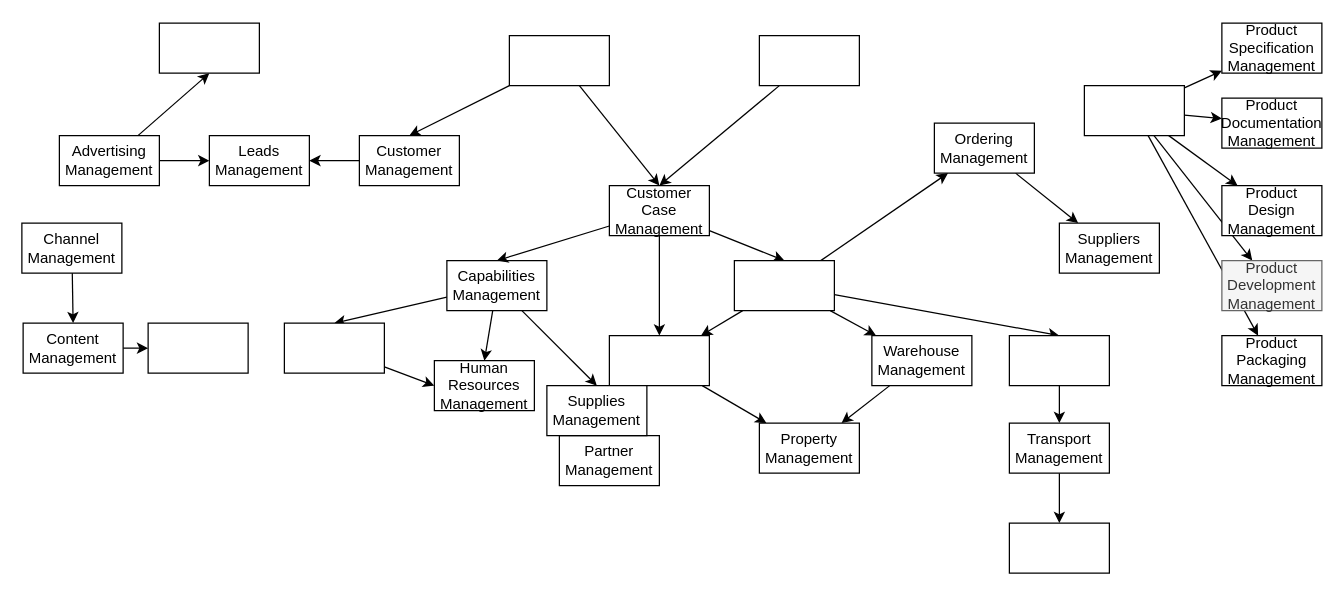
Image size: 1344x596. Some labels were removed from this diagram. Each missing label, with the centre of its shape:
"Content Development Management" belongs at [197,347].
"Delivery Management" belongs at [1058,360].
"Product Delivery Management" belongs at [1133,110].
"Sales Management" belongs at [558,60].
"Stock Management" belongs at [783,285].
"Store/Provider Management" belongs at [658,360].
"Strategy Management" belongs at [208,47].
"Support Management" belongs at [808,60].
"Training Management" belongs at [333,347].
"Transport Resources Management" belongs at [1058,547].
